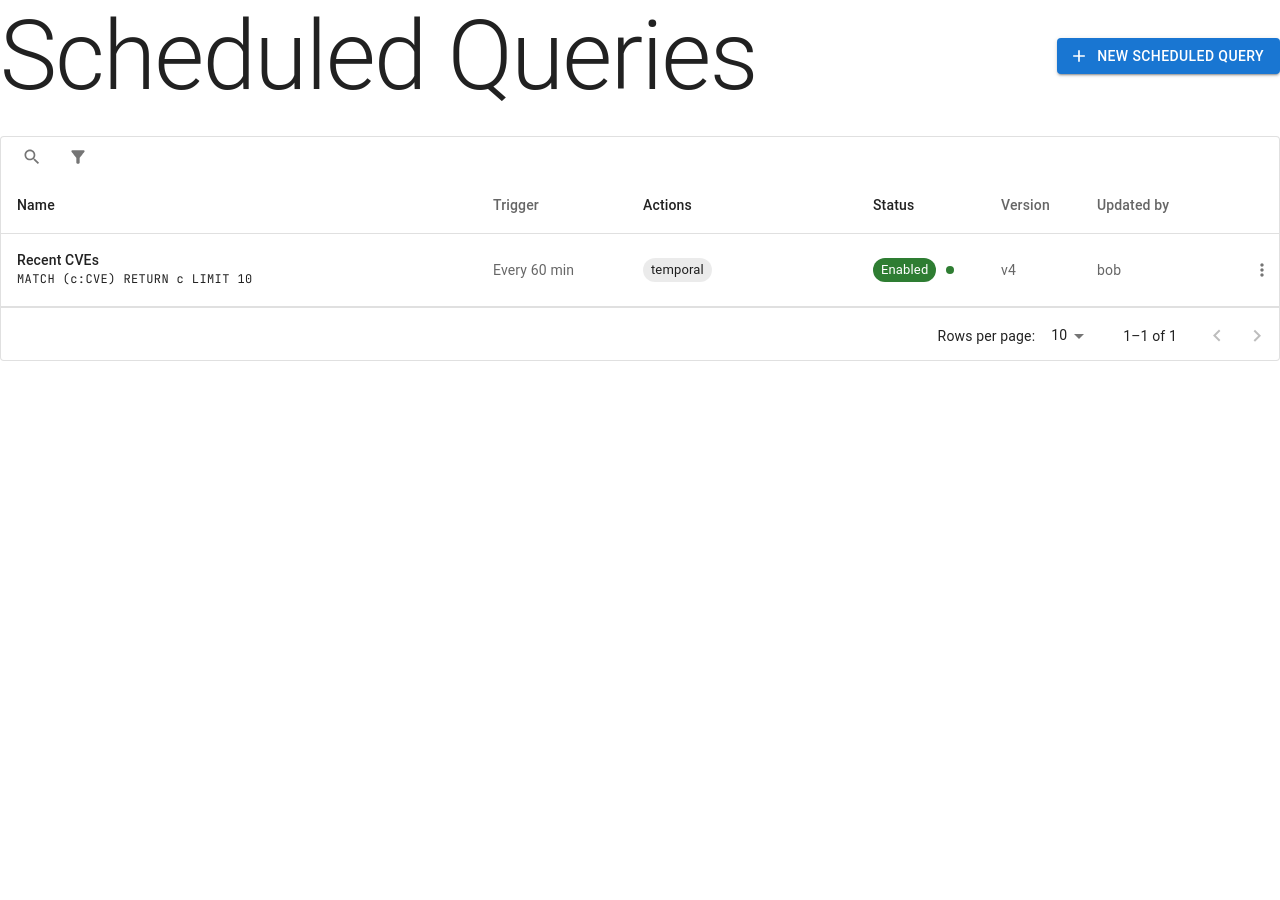
Scenario: ScheduledQueries › renders the action config field warning in the edit dialog
The width and height of the screenshot is (1280, 900).
Step 1. Click the button named "More actions" → {"x": 1262, "y": 270}, box [1247, 255, 1277, 285]
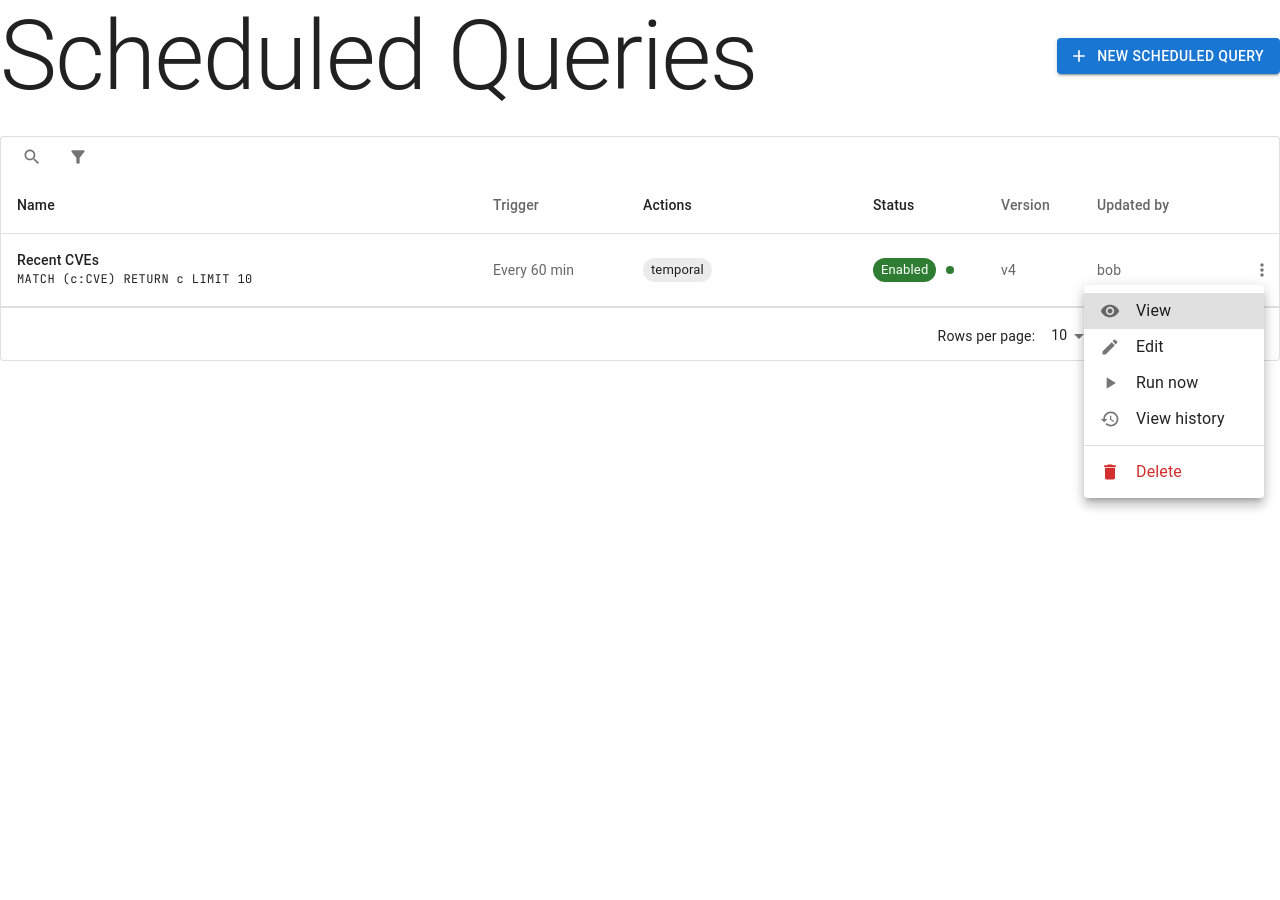
Step 2. Click the menu item "Edit" → {"x": 1110, "y": 347}, box [1100, 337, 1164, 357]
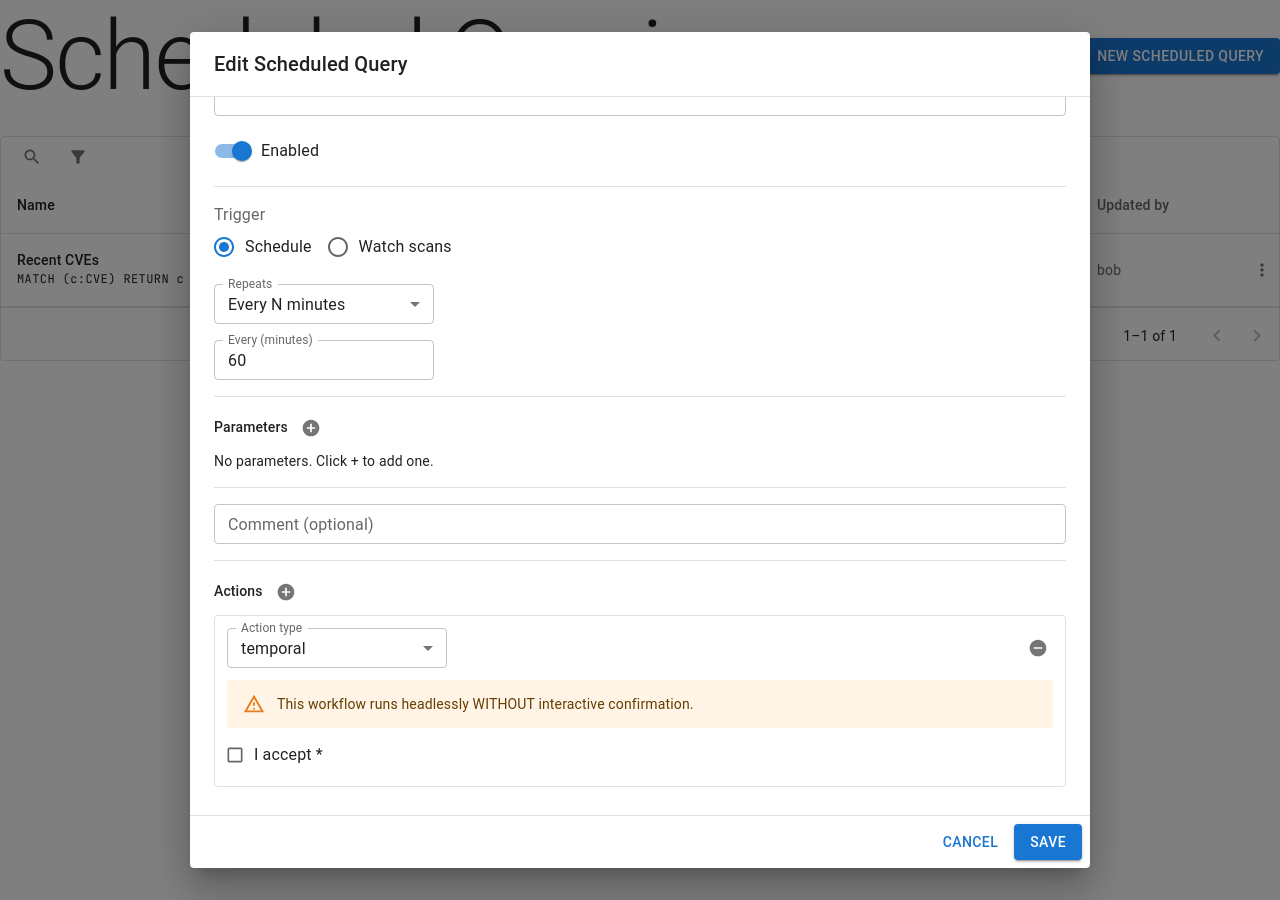
Expected: the text "This workflow runs headlessly WITHOUT interactive confirmation." is shown, [277, 696, 694, 712]
Expected: the checkbox labelled "I accept *" is shown, [225, 745, 323, 765]
